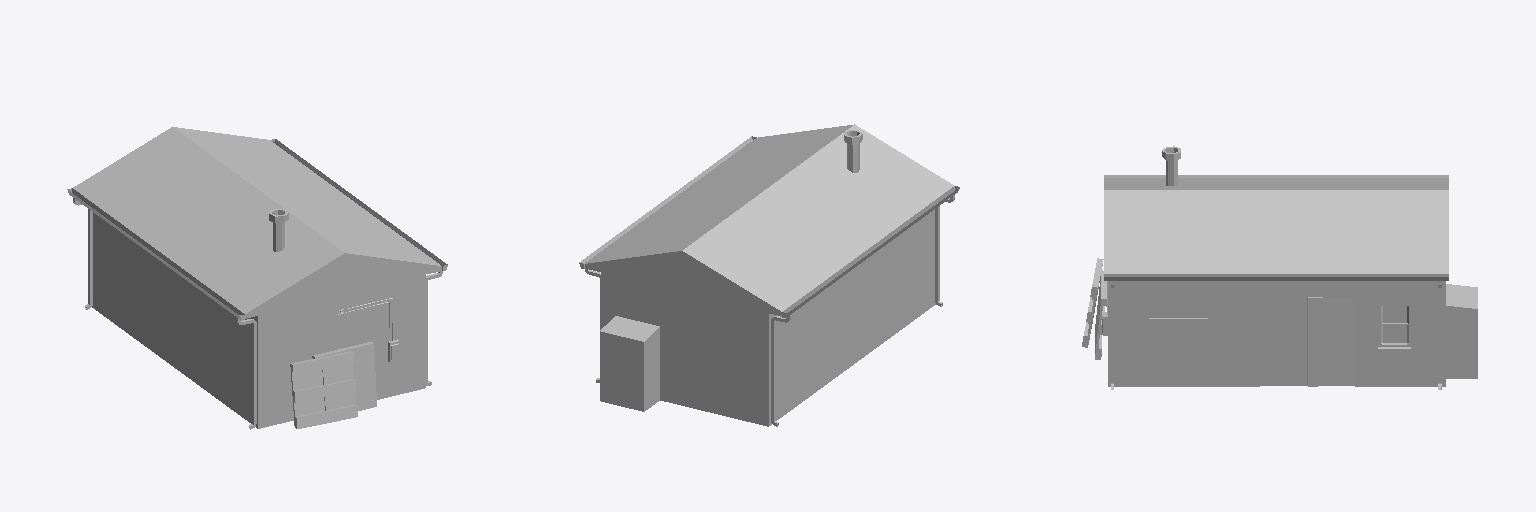
File: building.obj
3 renders of one model, left to right at view 1: azimuth 30°, elevation 25°; view 2: azimuth 150°, elevation 25°; view 3: azimuth 270°, elevation 25°, orthographic.
Parts seen in each view (by area): view 1: building_01_roof, building, Pallet.001, building_01_guttertop.001, Pallet, building_01_guttertop, building_01_gutter_tall.002, building_01_exhaustpipe, building_01_gutter_tall.003; view 2: building_01_roof, building, Propane_Storage, building_01_guttertop.001, building_01_guttertop, building_01_gutter_tall.003, building_01_exhaustpipe, building_01_gutter_tall.002; view 3: building_01_roof, building, Door_Shed_A.001, Propane_Storage, building_01_vent, building_01_guttertop, window_modern, building_01_guttertop.001, Pallet, Pallet.001, building_01_exhaustpipe.
Boxes of the visible parts, box(x1,y1,x2,y2) form: building_01_roof: box(73, 127, 441, 318); building: box(92, 212, 425, 428); Pallet.001: box(290, 351, 357, 428); building_01_guttertop.001: box(67, 188, 244, 320); Pallet: box(312, 342, 376, 410); building_01_guttertop: box(271, 139, 447, 270); building_01_gutter_tall.002: box(236, 315, 256, 429); building_01_exhaustpipe: box(269, 209, 288, 251); building_01_gutter_tall.003: box(73, 198, 92, 309); building_01_roof: box(585, 124, 953, 315); building: box(601, 209, 935, 426); Propane_Storage: box(600, 316, 659, 411); building_01_guttertop.001: box(782, 186, 959, 317); building_01_guttertop: box(579, 136, 756, 268); building_01_gutter_tall.003: box(771, 312, 790, 426); building_01_exhaustpipe: box(844, 130, 862, 172); building_01_gutter_tall.002: box(935, 195, 954, 306); building_01_roof: box(1104, 178, 1448, 273); building: box(1108, 281, 1445, 386); Door_Shed_A.001: box(1260, 297, 1354, 386); Propane_Storage: box(1446, 284, 1477, 378); building_01_vent: box(1149, 318, 1207, 362); building_01_guttertop: box(1104, 274, 1448, 280); window_modern: box(1378, 304, 1410, 346); building_01_guttertop.001: box(1104, 175, 1448, 177); Pallet: box(1095, 270, 1106, 359); Pallet.001: box(1082, 258, 1103, 347); building_01_exhaustpipe: box(1162, 146, 1180, 185).
Bounding box in the file's own units: 5.69 × 4.72 × 9.38.